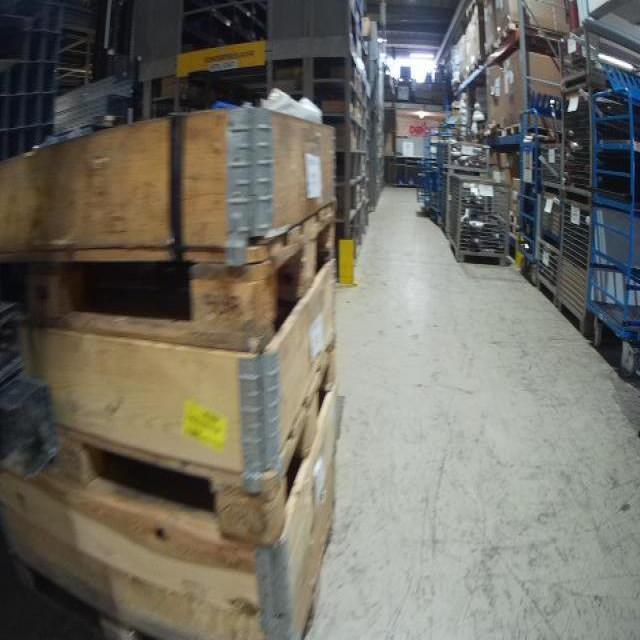pallet: (49, 337, 337, 547), (0, 197, 337, 359), (11, 549, 330, 640), (504, 124, 560, 140)
stillage: (442, 173, 513, 269), (558, 89, 622, 193), (553, 202, 599, 339), (556, 24, 601, 87), (438, 135, 496, 173), (538, 141, 568, 187), (535, 196, 560, 251), (536, 245, 554, 301)
